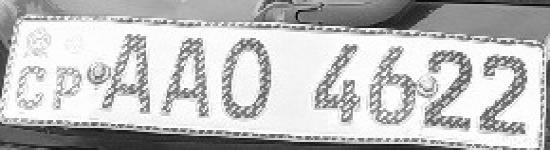2: (423, 42, 477, 136), (480, 47, 534, 139)
4: (308, 37, 366, 126)
6: (368, 44, 419, 127)
A: (158, 29, 213, 125), (102, 30, 154, 118)
C: (15, 62, 49, 114)
O: (216, 33, 278, 124)
P: (51, 62, 83, 114)
